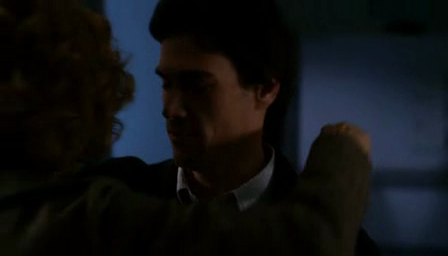cu: (1, 1, 448, 256)
face: (153, 43, 233, 171)
ots: (1, 1, 371, 256)
person: (147, 1, 381, 256)
